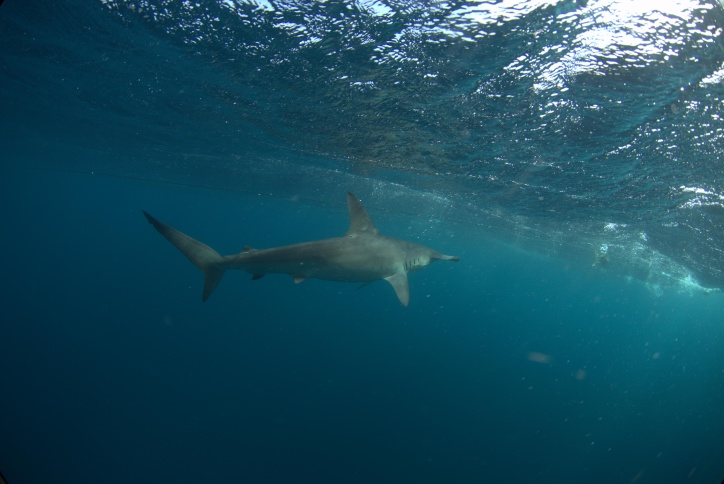Hammer: (126, 164, 486, 333)
